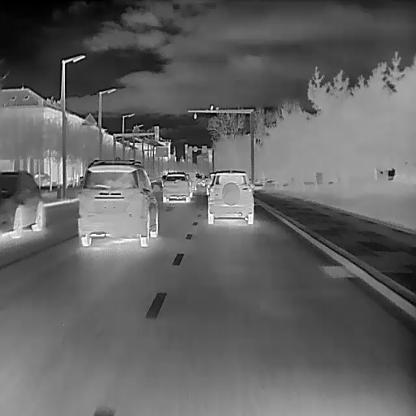car: (78, 156, 157, 246), (0, 170, 42, 237), (206, 169, 255, 223), (161, 171, 189, 202), (33, 172, 50, 186), (184, 172, 192, 197)
